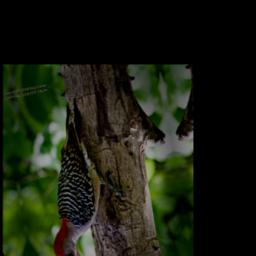Woodpecker: (24, 89, 147, 256)
